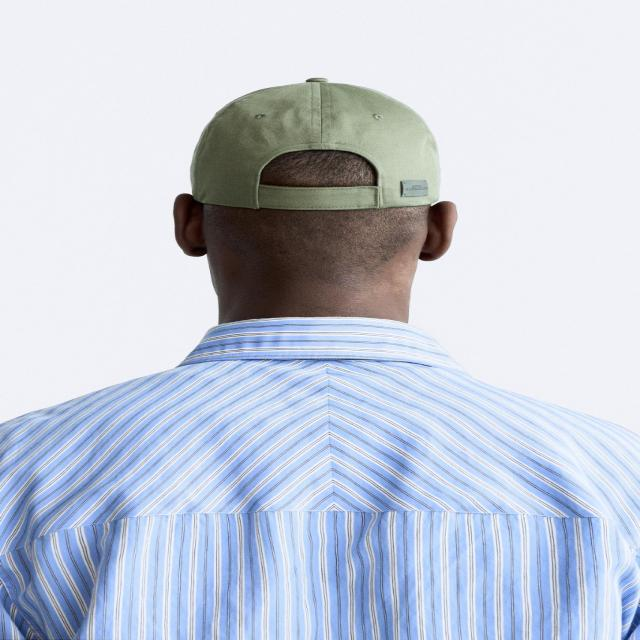Cap: (189, 78, 441, 210)
